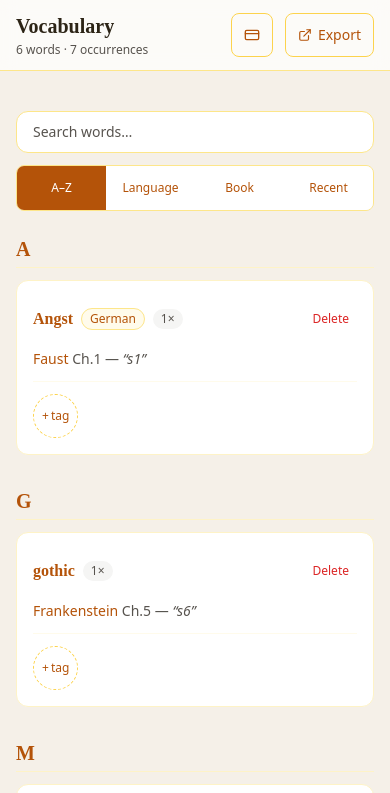
Test: vocabulary sort — Language › German words appear under German section
Expected: the button "Angst" is shown, [33,297,73,341]
Click the button with test id "sort-language" at {"x": 150, "y": 188}, box [106,166,195,210]
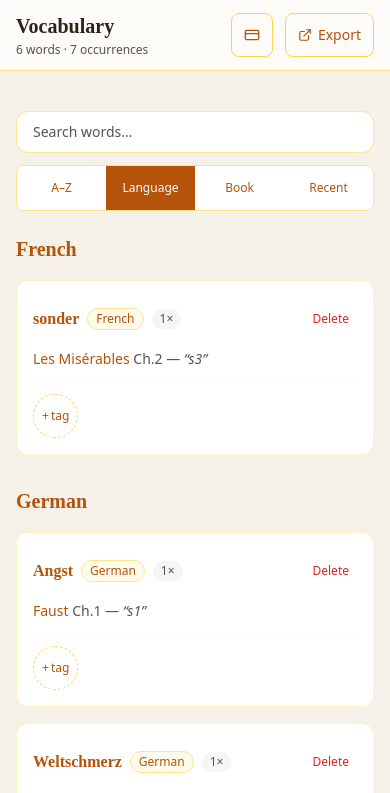
Expected: the heading "German" is shown, [16,487,374,520]
Expected: the button "Angst" is shown, [33,549,73,593]
Expected: the button "Weltschmerz" is shown, [33,740,122,784]
